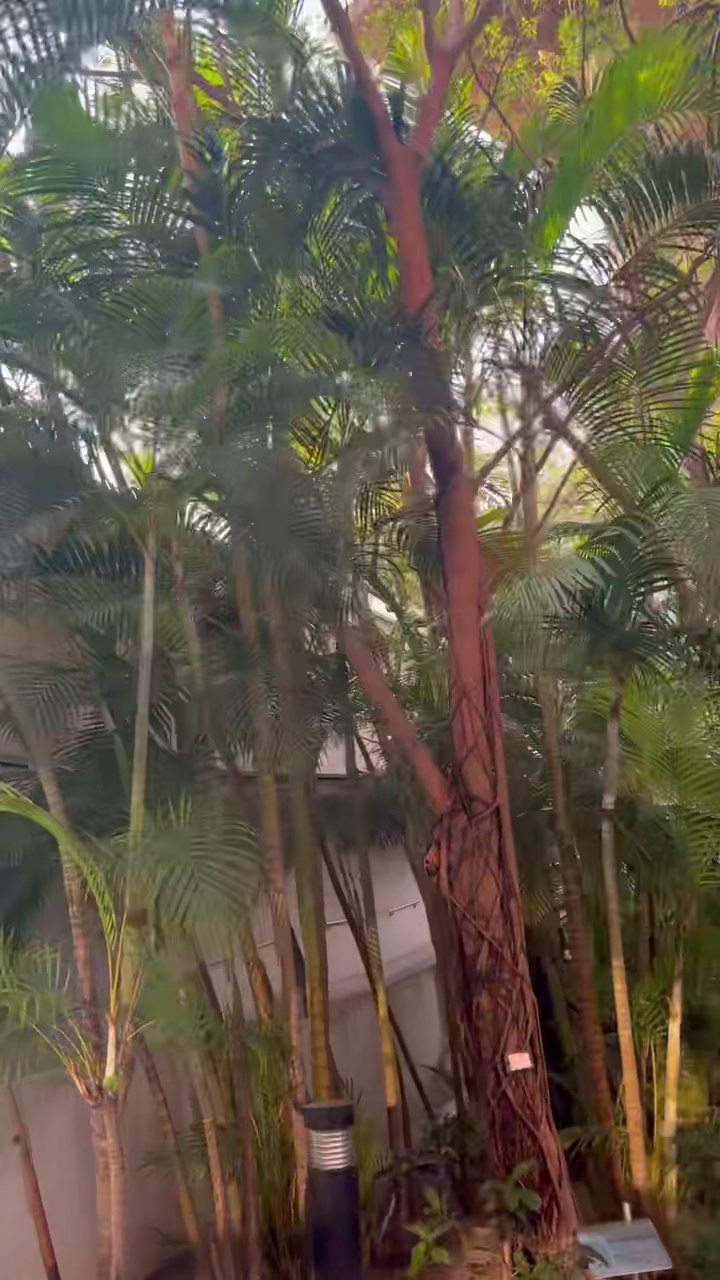Ficus benjamina: (326, 0, 575, 1243)
